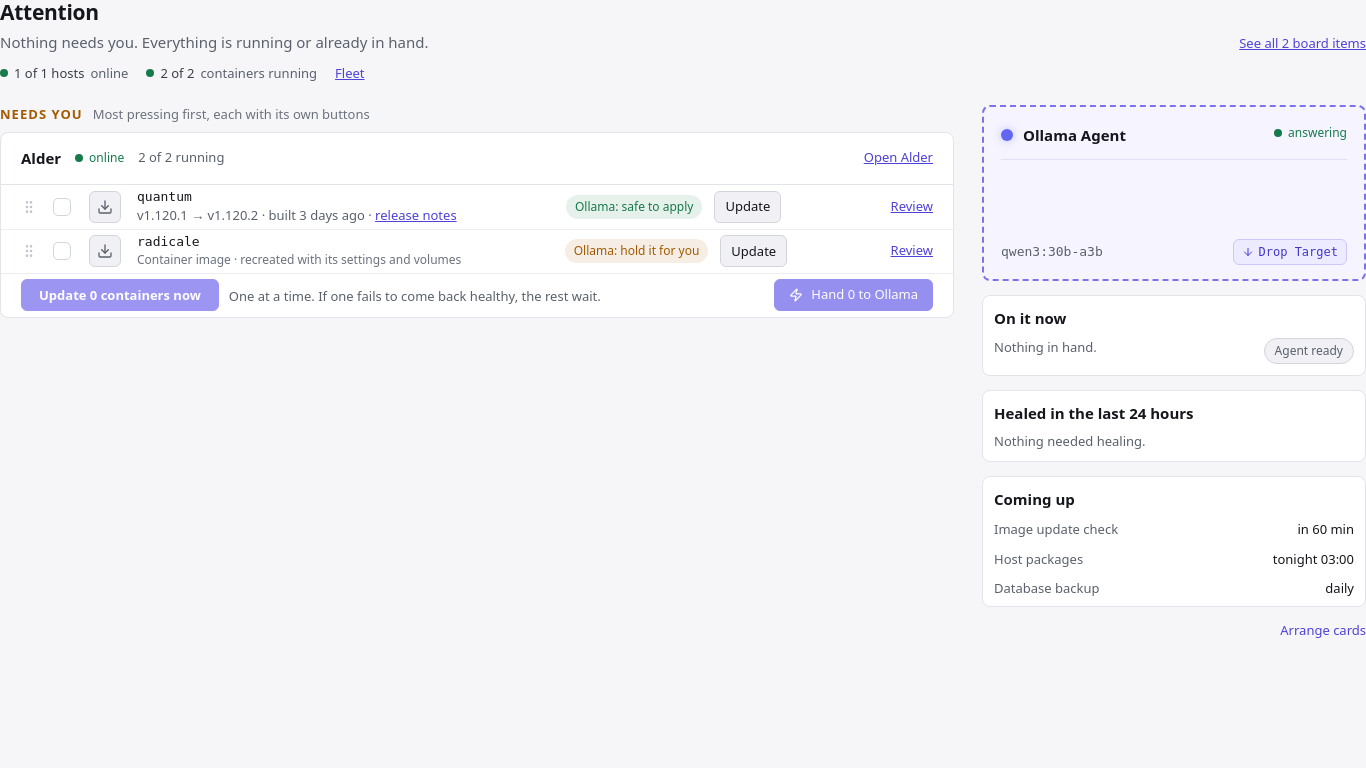
Test: updates on the attention page › shows Ollama's word on each update, and applies the ticked ones one at a time
The width and height of the screenshot is (1366, 768).
Expected: the text "Ollama: safe to apply" is shown, 566,195 -> 702,219
Expected: the text "Ollama: hold it for you" is shown, 565,239 -> 708,263
Click the checkbox named "Update quantum".
click(62, 207)  # box 53,198 -> 71,216
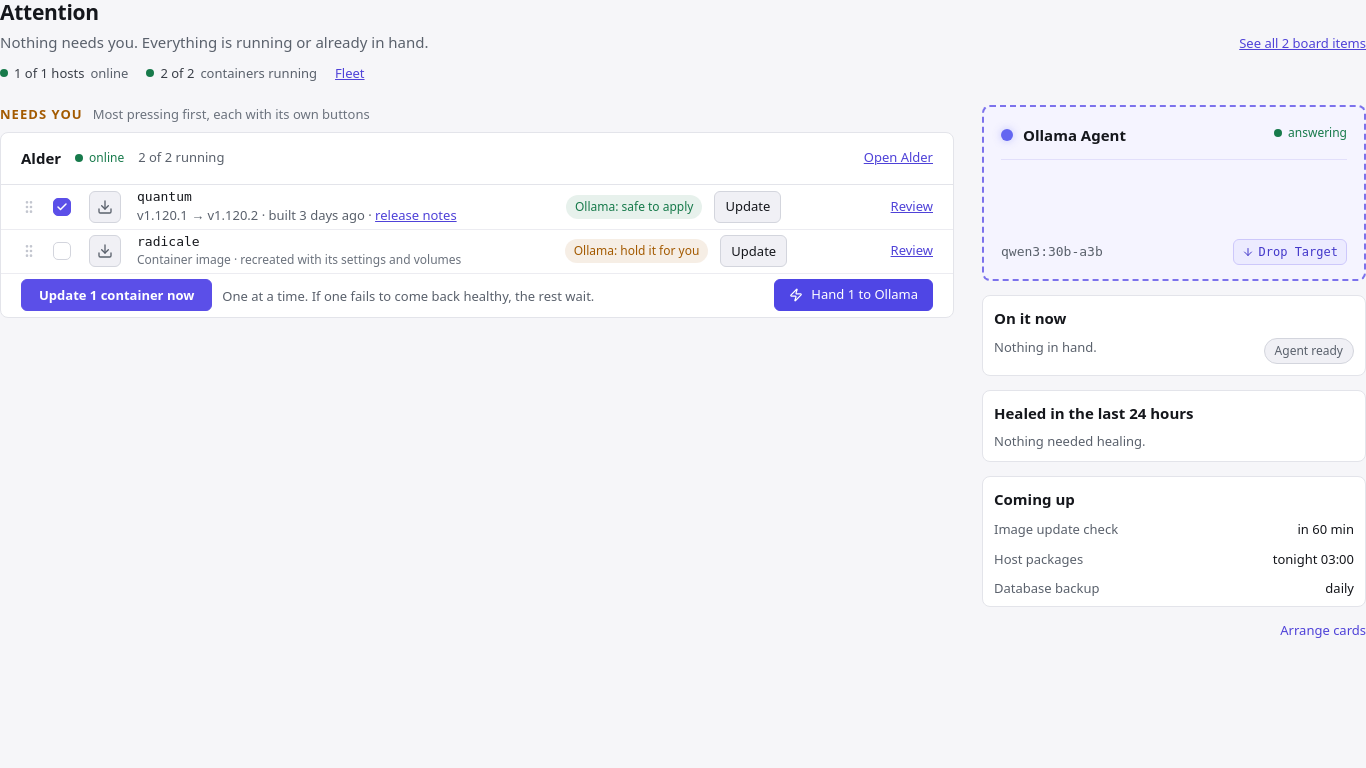
Click the button "Update 1 container now".
click(117, 295)  # box 21,279 -> 212,311
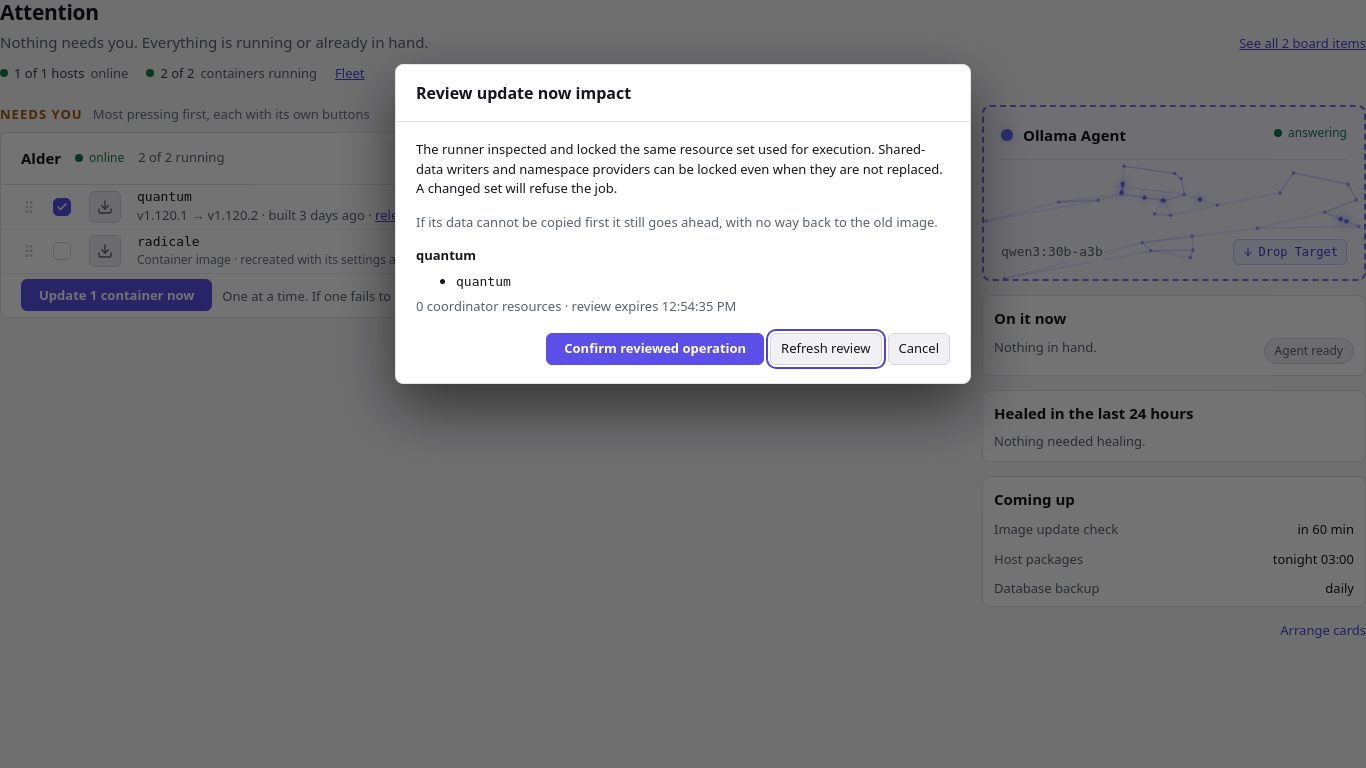
Click the button "Confirm reviewed operation".
click(655, 348)  # box 546,332 -> 764,364
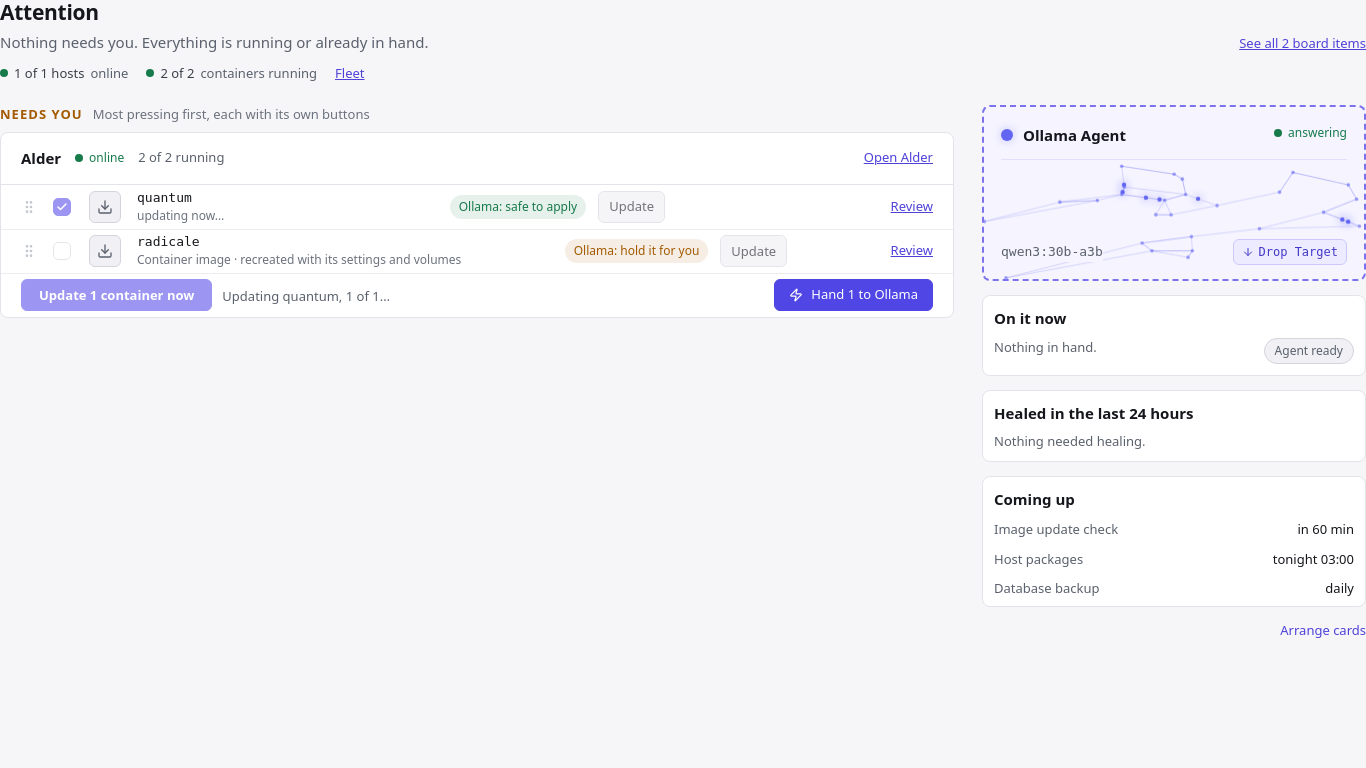
Expected: the text "Updating quantum, 1 of 1…" is shown, 222,287 -> 390,307
Expected: the text "updating now…" is shown, 137,208 -> 224,223
Expected: the checkbox named "Update radicale" is disabled, 53,242 -> 71,260
